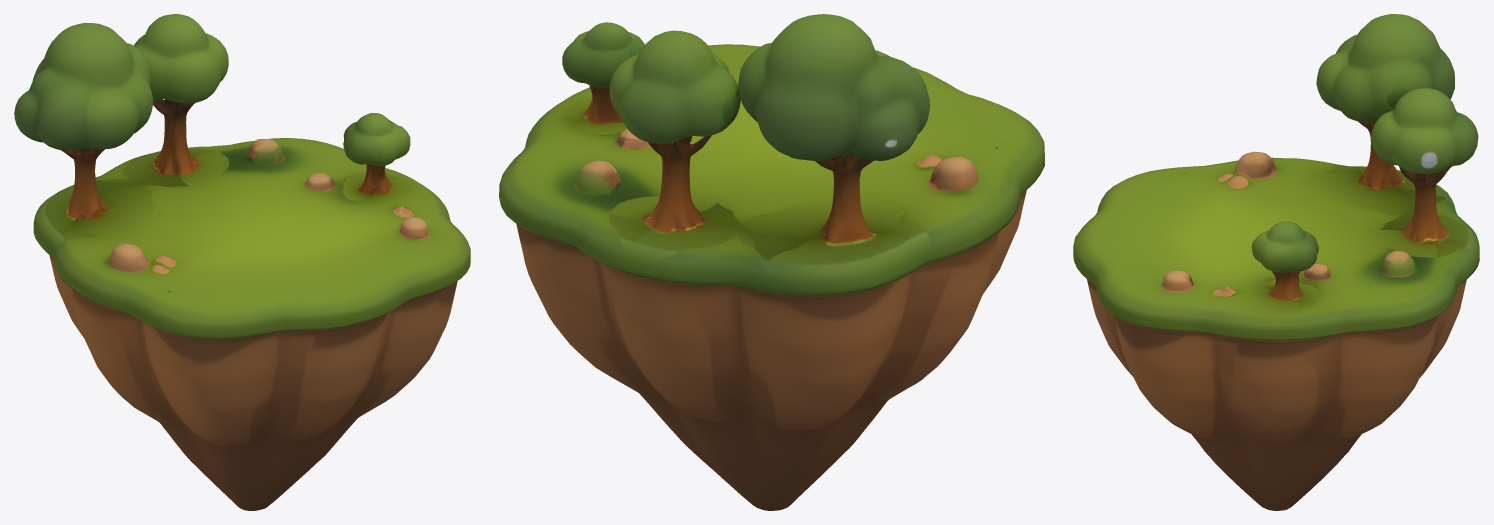
The model's file is island.glb.
The picture shows the model from 3 angles, left to right: view 1: azimuth 30°, elevation 25°; view 2: azimuth 150°, elevation 25°; view 3: azimuth 270°, elevation 25°; orthographic projection. The views are drawn at different scales.
Parts seen in each view (by area): view 1: model; view 2: model; view 3: model.
Boxes of the visible parts, x1,y1,x2,y2 form: model: (14,14,470,510); model: (499,14,1044,510); model: (1073,14,1479,510).
Bounding box in the file's own units: 1.54 × 1.9 × 1.58.
1 material, 1 textured.
